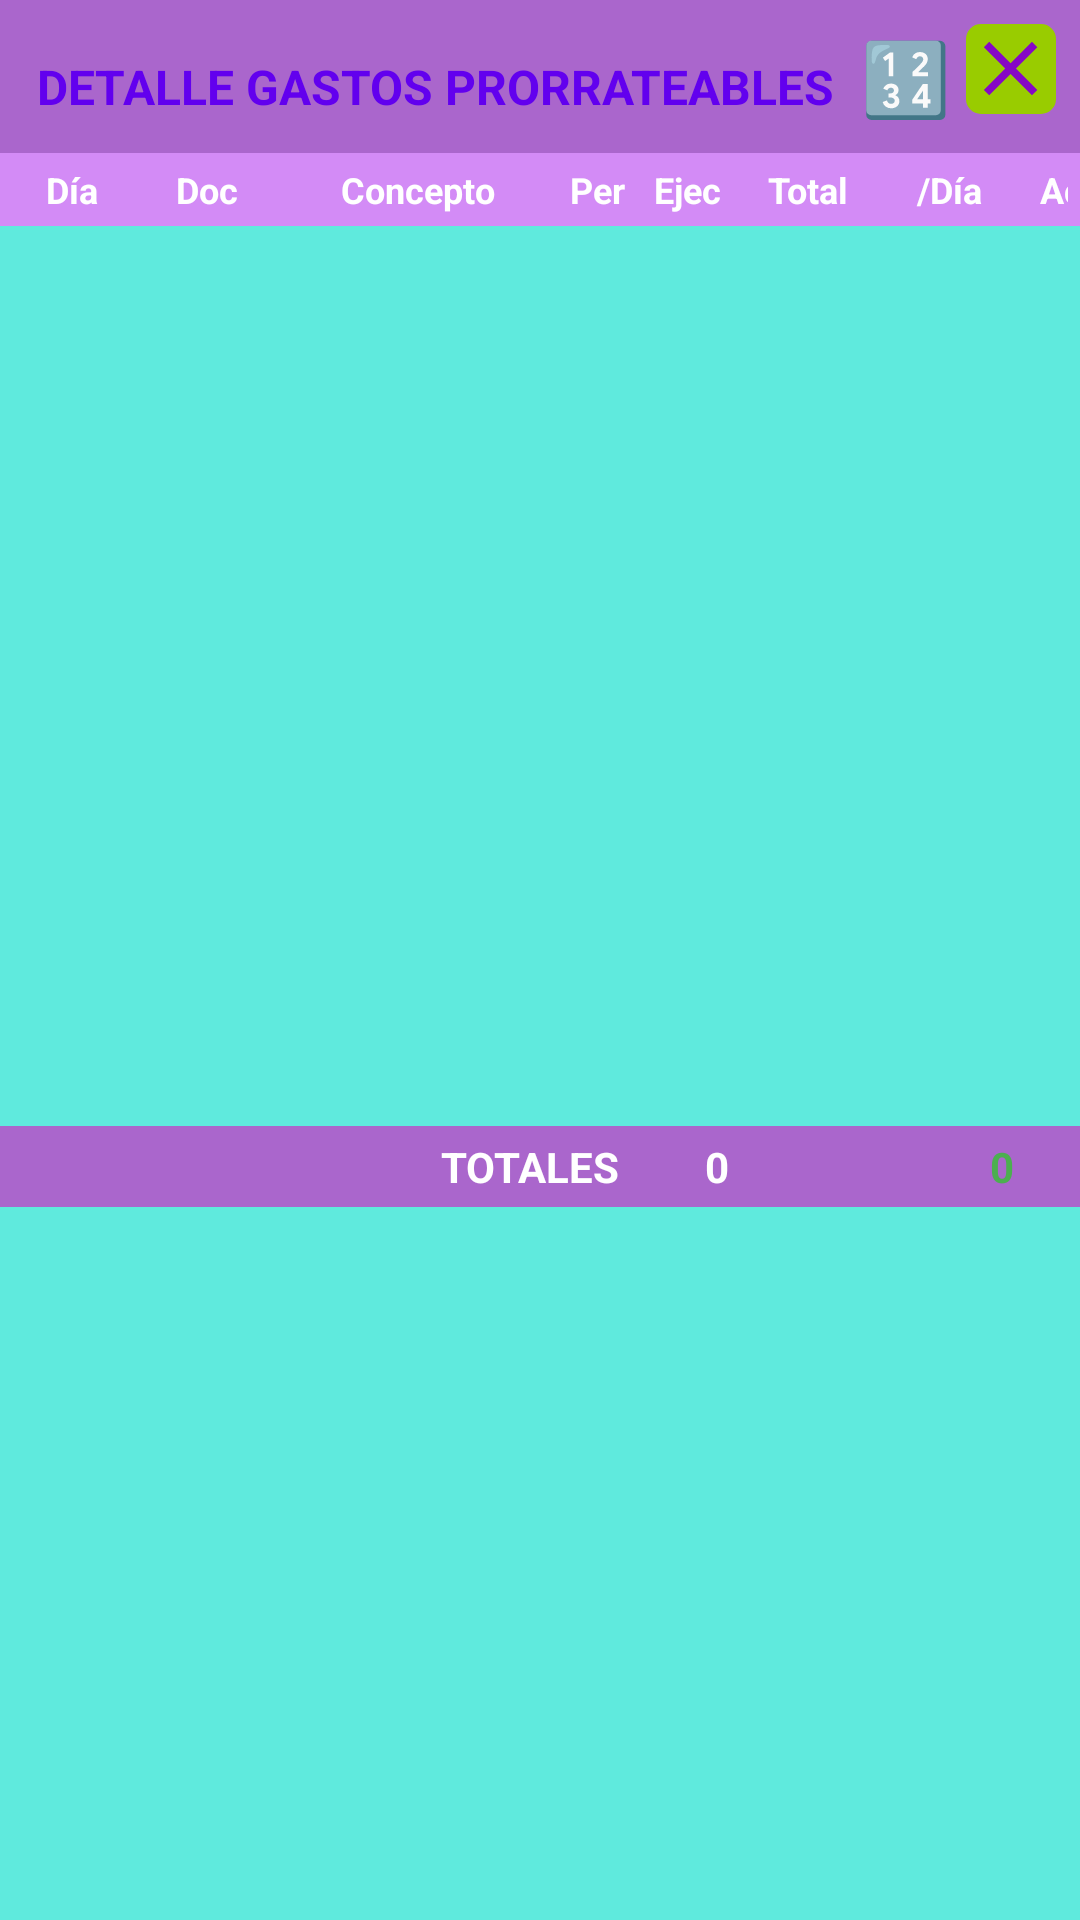

Locate icon controls on the screen. Image size 1080*1920, boxes as region(x1, y1, x2, y2).
Cerrar: region(966, 24, 1056, 114)
